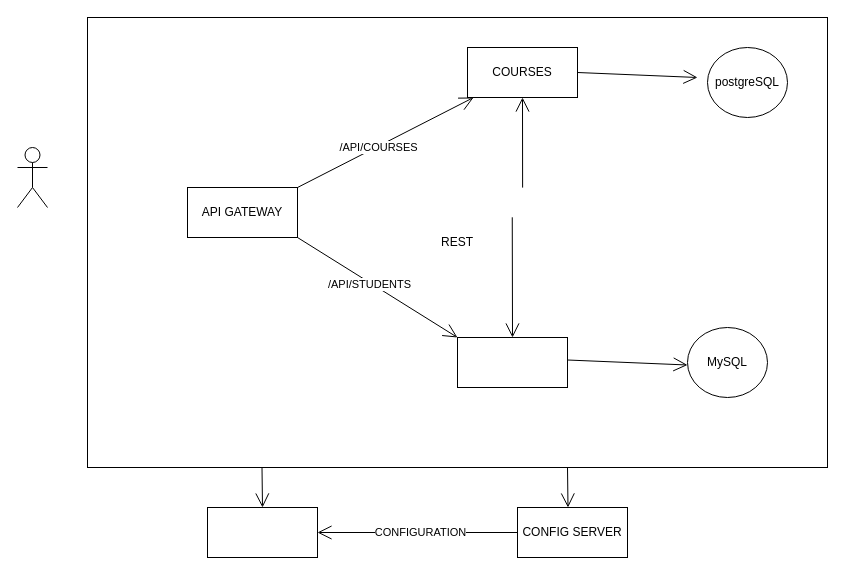
This 845x575 diagram has some shape labels left out. The box of each missing label's shape, as (x1, y1, x2, y2) in pixels:
Actor: (16, 146, 48, 208)
EUREKA: (206, 506, 318, 558)
STUDENTS: (456, 336, 568, 388)
